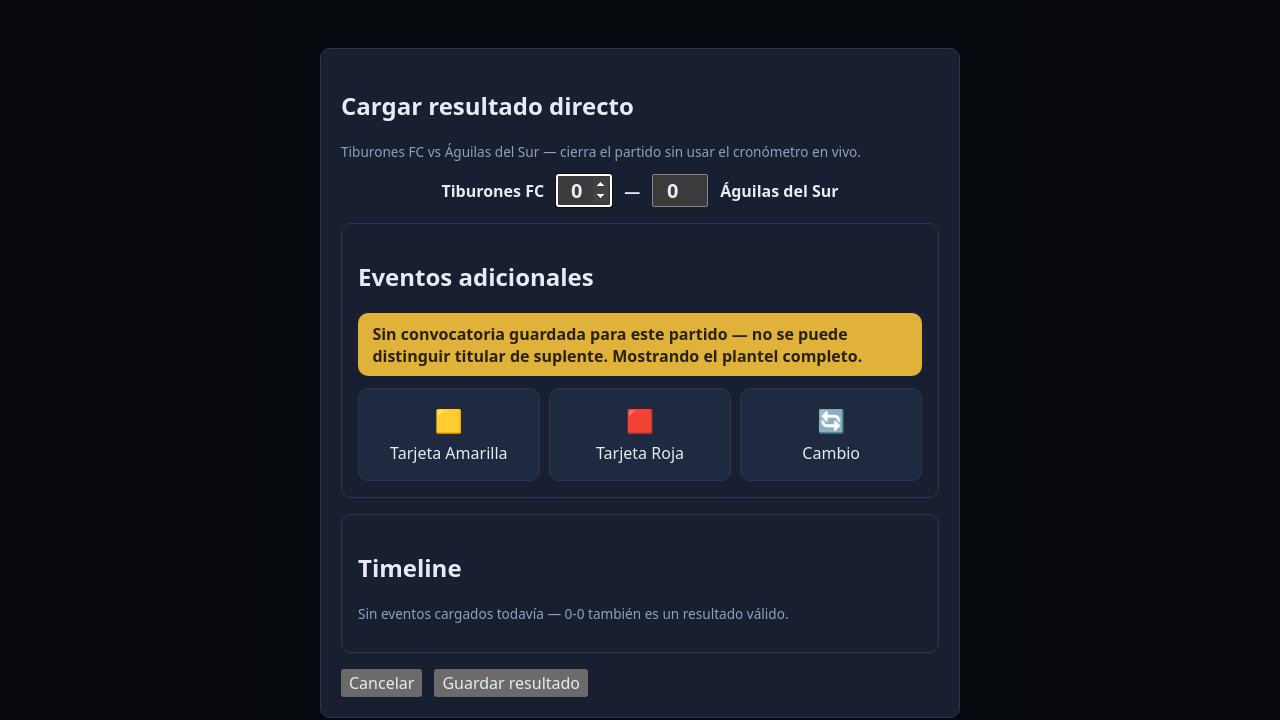
Test: ModalResultadoDirecto — slots por marcador › ingresar el marcador genera exactamente esa cantidad de slots por lado
Replace the text in the number field named "Goles Tiburones FC" with "2" at (584, 191), box [556,174,612,207]
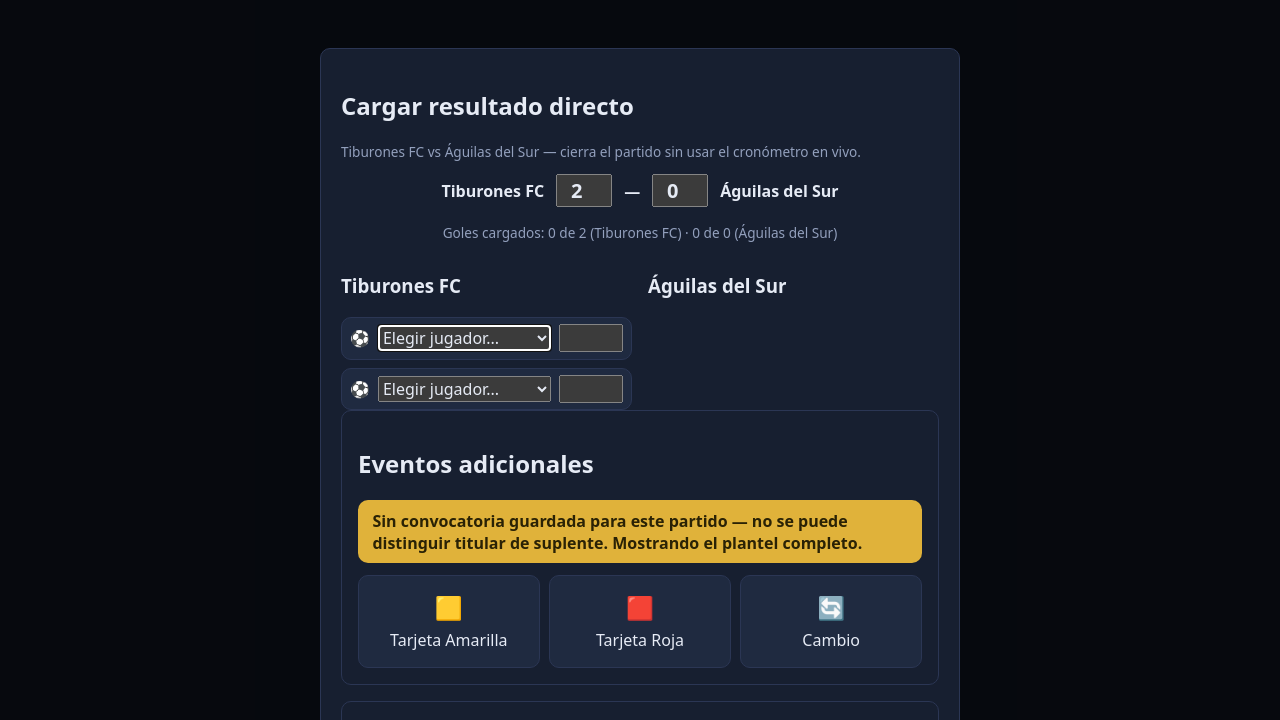
Replace the text in the number field named "Goles Águilas del Sur" with "1" at (680, 191), box [652,174,708,207]
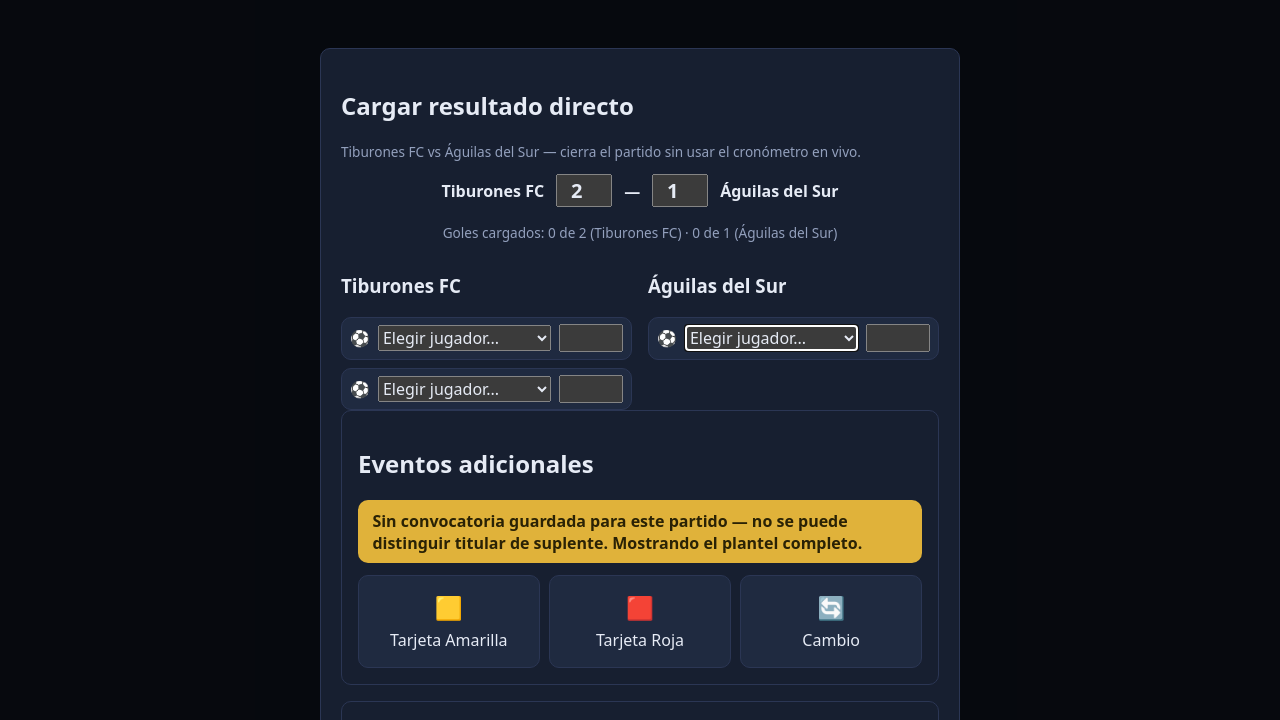
Result: the number of dropdowns named "Goleador, Tiburones FC" is 2 at [378,325,551,351]; [378,376,551,402]
Result: the number of dropdowns named "Goleador, Águilas del Sur" is 1 at [685,325,858,351]
